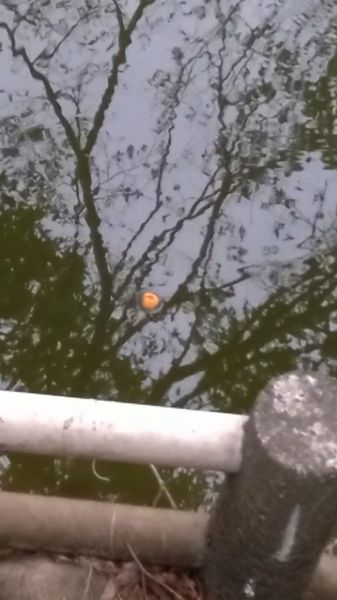eggs: (135, 287, 168, 314)
